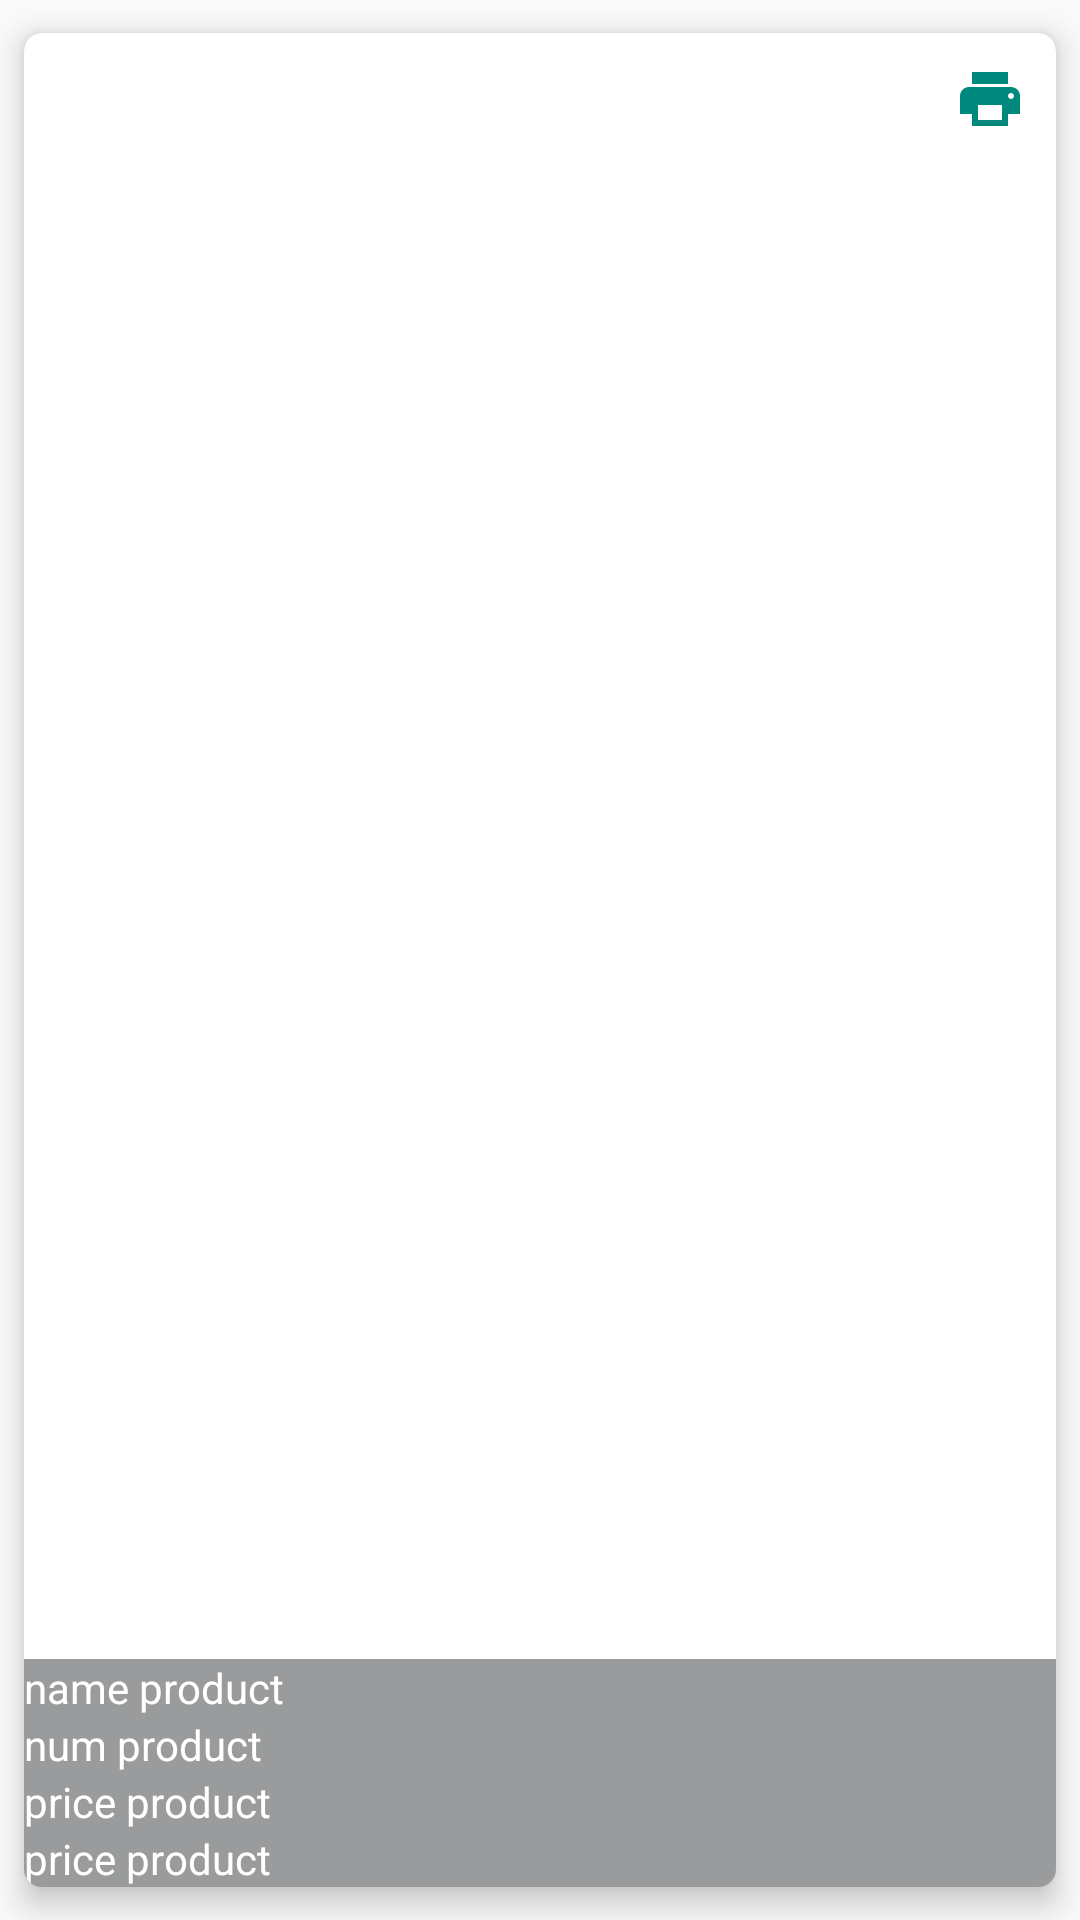

Where icons sit on this 1080w x 1920h app screen, as box=[x1, y1, x2, y2]:
print: box=[960, 72, 1020, 126]
